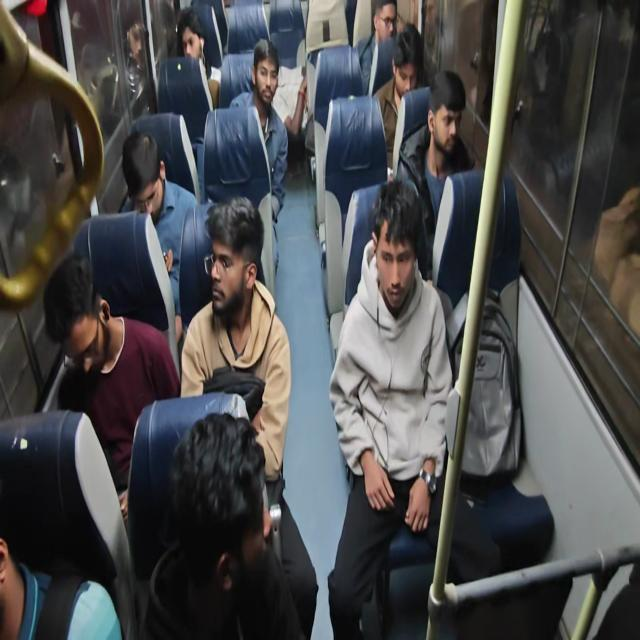person: (180, 195, 318, 637), (327, 178, 454, 638), (140, 411, 305, 639), (42, 252, 180, 524), (396, 69, 475, 280), (120, 128, 198, 340), (229, 38, 288, 272), (0, 537, 123, 639), (372, 22, 425, 175), (176, 8, 220, 110), (355, 0, 397, 96), (114, 21, 155, 117)
